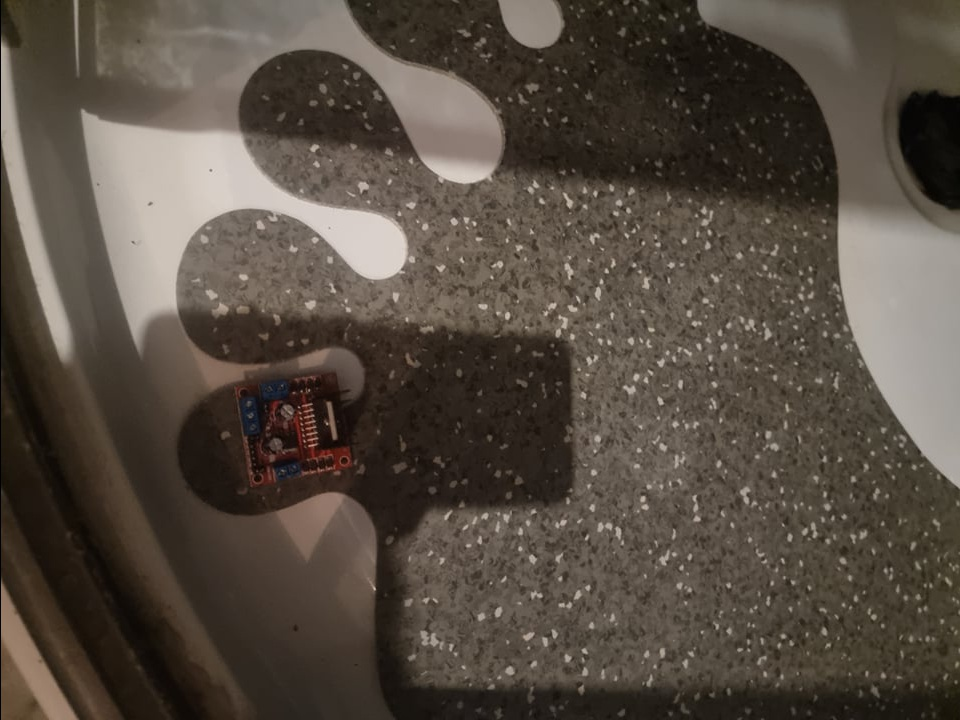MOTOR: (231, 370, 358, 491)
